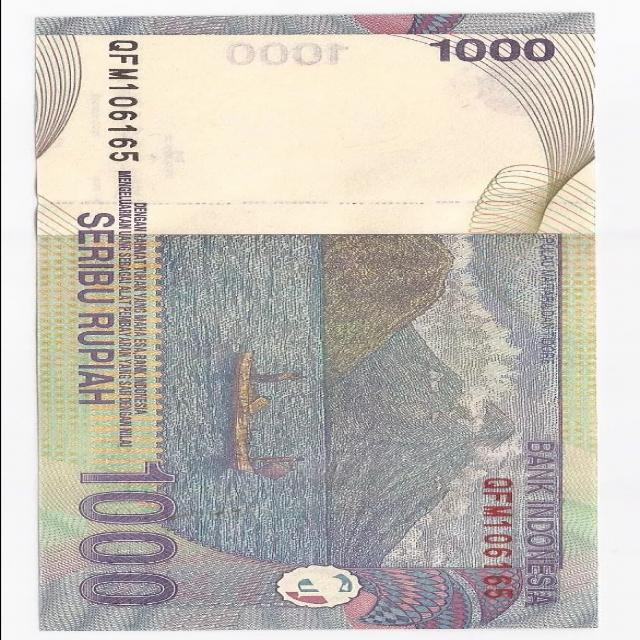1000IndonesianRupiah: (38, 12, 600, 624)
